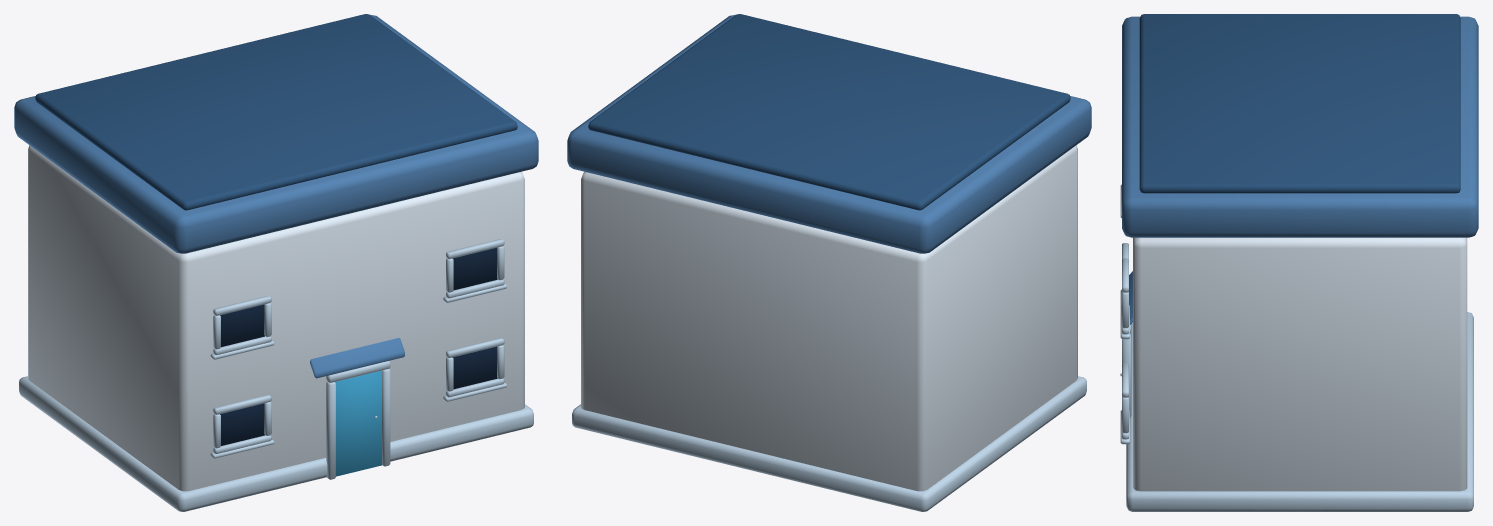
File: house-b.glb
3 renders of one model, left to right at view 1: azimuth 30°, elevation 25°; view 2: azimuth 150°, elevation 25°; view 3: azimuth 270°, elevation 25°, orthographic. The views are drawn at different scales.
Parts seen in each view (by area): view 1: house-b; view 2: house-b; view 3: house-b.
Part boxes in pixels (bbox=[...]): house-b: bbox=[14, 14, 538, 511]; house-b: bbox=[567, 14, 1091, 511]; house-b: bbox=[1120, 14, 1478, 511].
Size of the model in its own units: 10 by 8 by 8.03.
